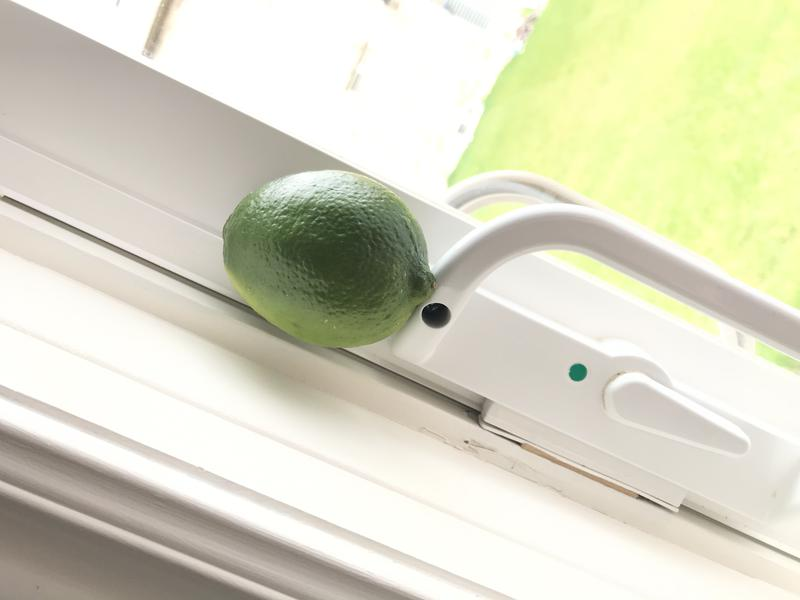lime: (212, 160, 446, 353)
